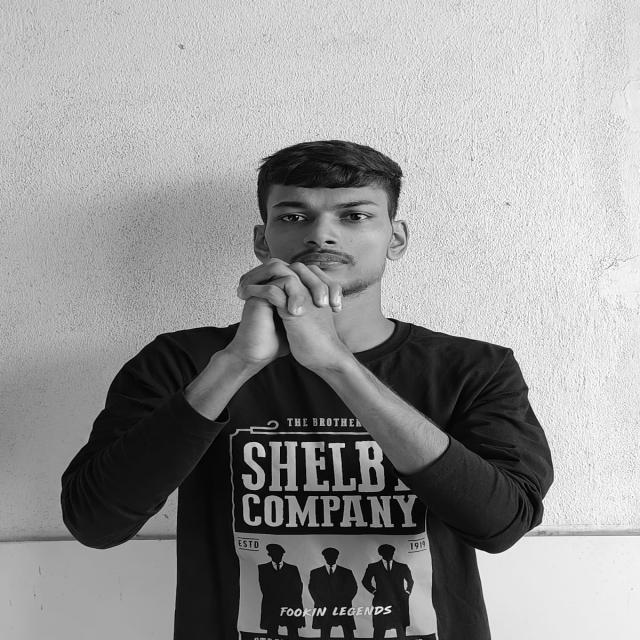Sorry: (235, 260, 348, 353)
